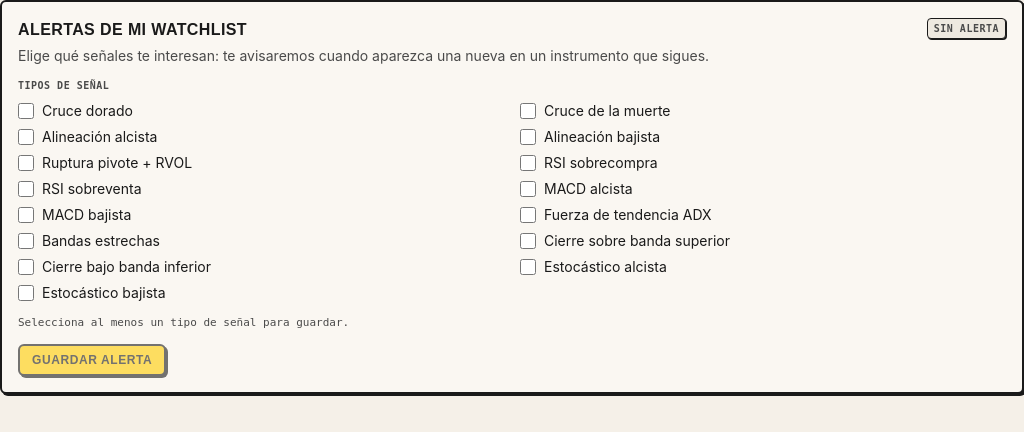
it: shows the API limit message inline
Click the checkbox labelled "Cruce dorado". click: [26, 111]
box: [18, 103, 34, 119]
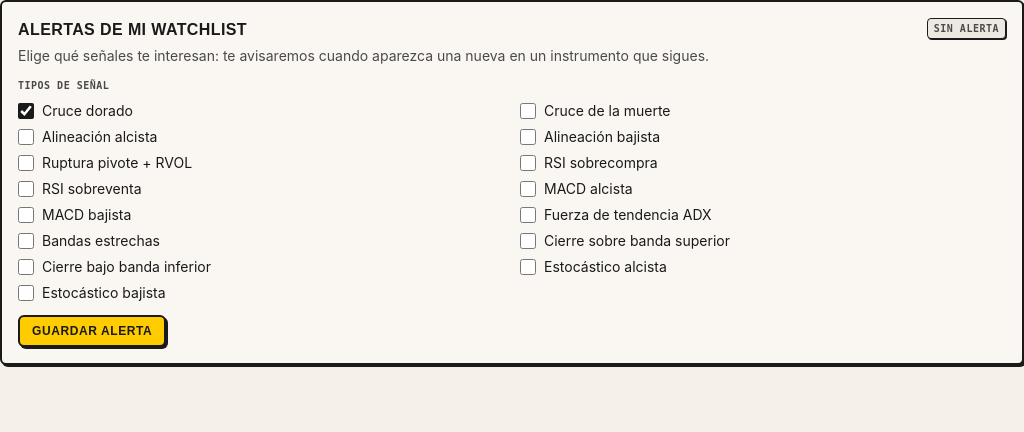
Click the button "Guardar alerta". click: [92, 331]
box: [18, 315, 166, 347]
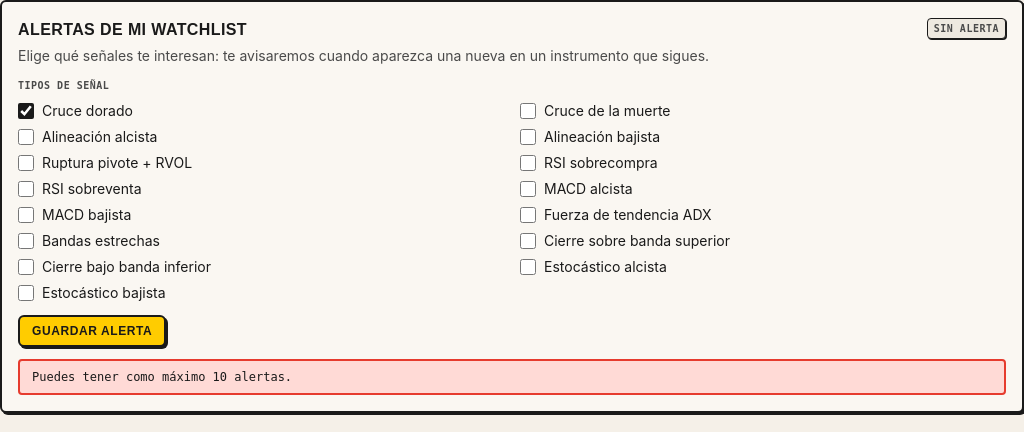
Result: the message reads "Puedes tener como máximo 10 alertas." at [32, 370, 292, 384]
